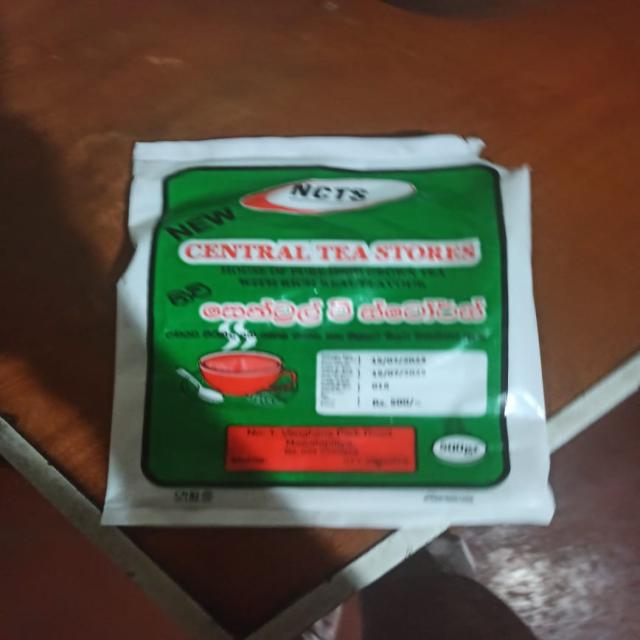Central Tea: (91, 107, 547, 593)
